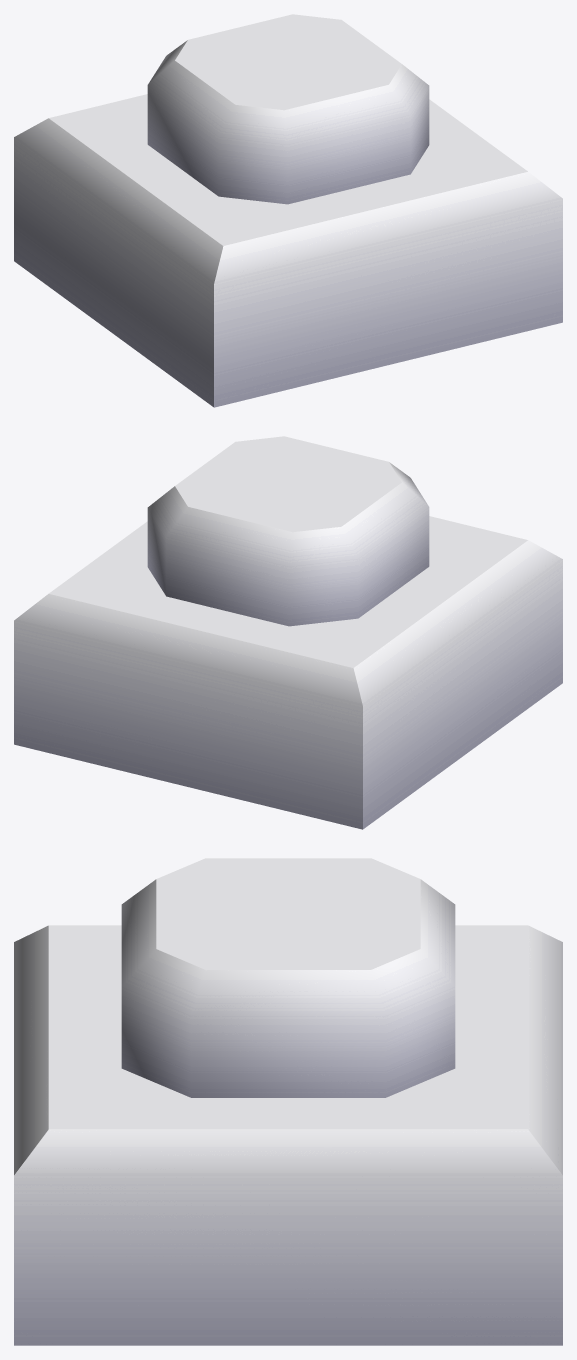
The model's file is bevel-hq-plate-1x1.glb.
3 renders of one model, top to bottom at view 1: azimuth 30°, elevation 25°; view 2: azimuth 150°, elevation 25°; view 3: azimuth 270°, elevation 25°, orthographic. The views are drawn at different scales.
Visible parts, largest first — view 1: bevel-hq-plate-1x1; view 2: bevel-hq-plate-1x1; view 3: bevel-hq-plate-1x1.
Part boxes in pixels (x1,y1,x2,y2): bevel-hq-plate-1x1: (14, 14, 562, 407); bevel-hq-plate-1x1: (14, 436, 562, 829); bevel-hq-plate-1x1: (14, 858, 562, 1345).
Size of the model in its own units: 0.0795 by 0.05 by 0.079.
Materials: 1 (1 with a texture image).
